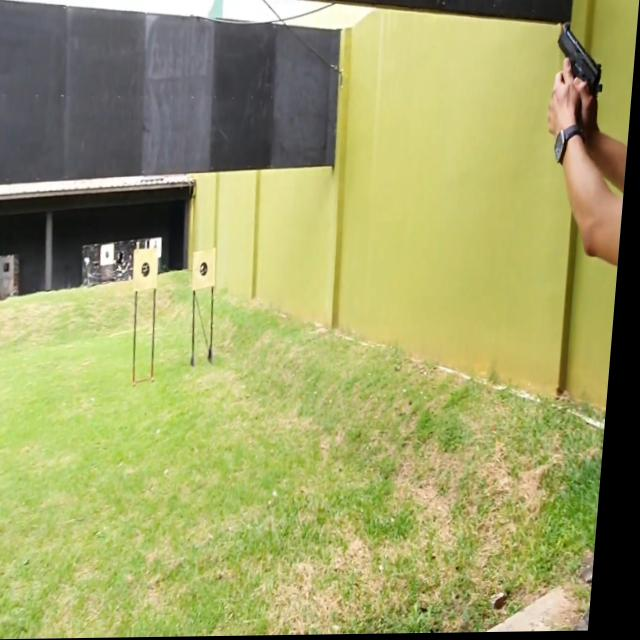handgun: (553, 18, 610, 99)
